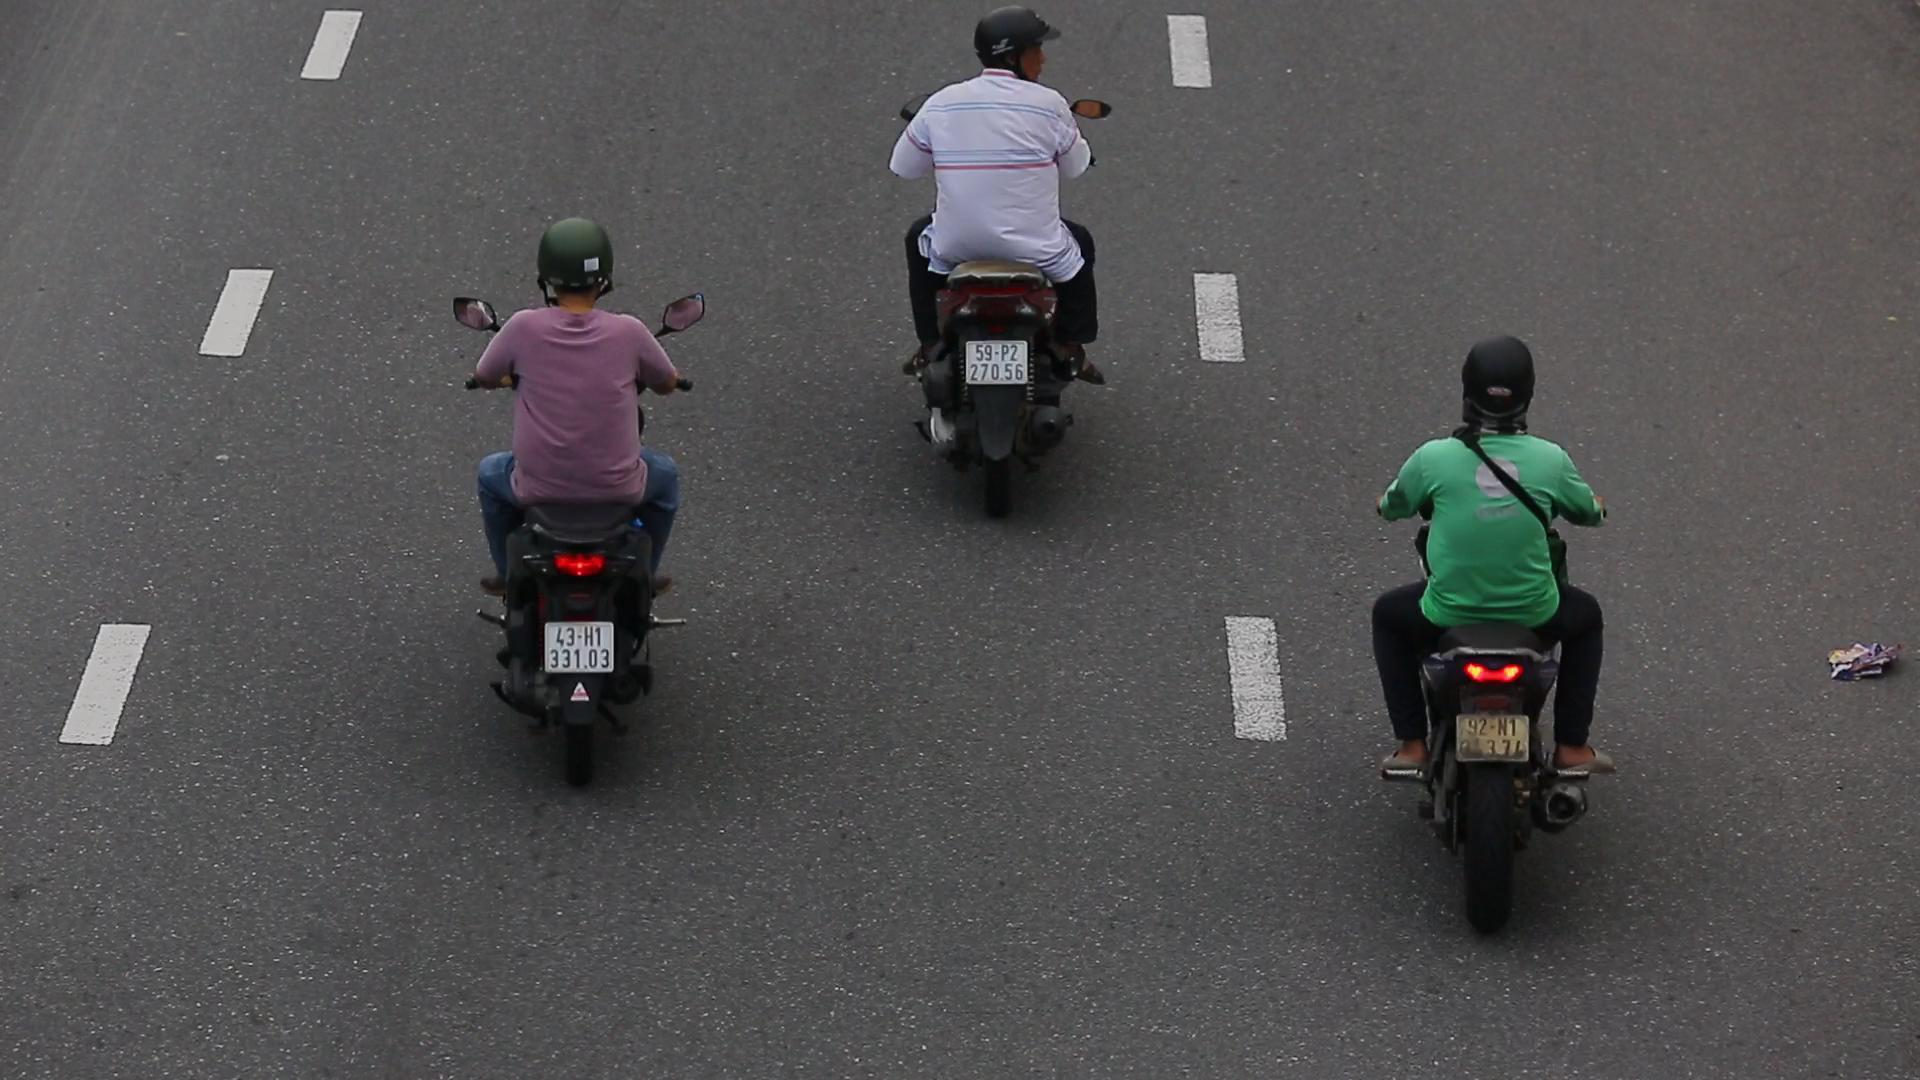motobike: (1357, 319, 1631, 953), (440, 218, 715, 783), (874, 0, 1104, 491)
